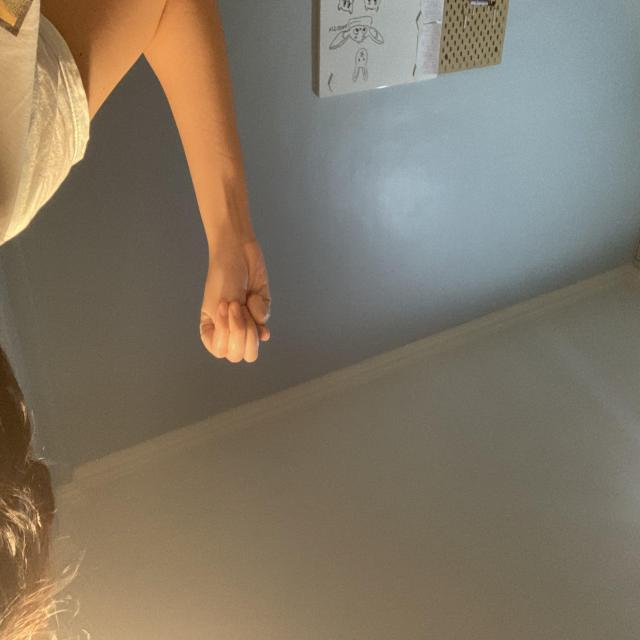M: (368, 277, 440, 400)
